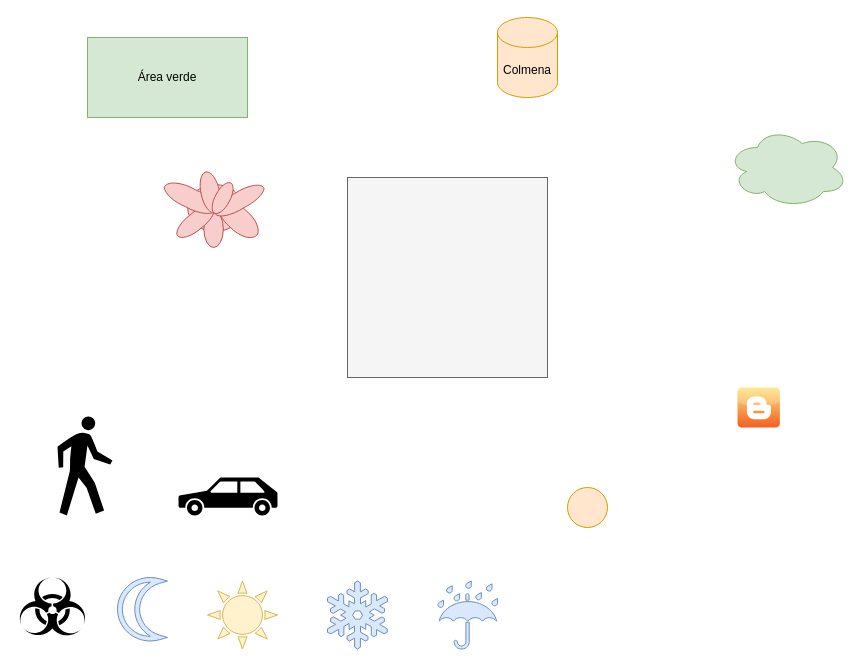
Some shapes in this 865 by 667 pixel diagram are drawn without their labels. The shapes that lost their labels are listed below. From the top down, each one's centre as x and y in pixels, then its label:
(x=787, y=167): Árbol
(x=447, y=277): Edificio
